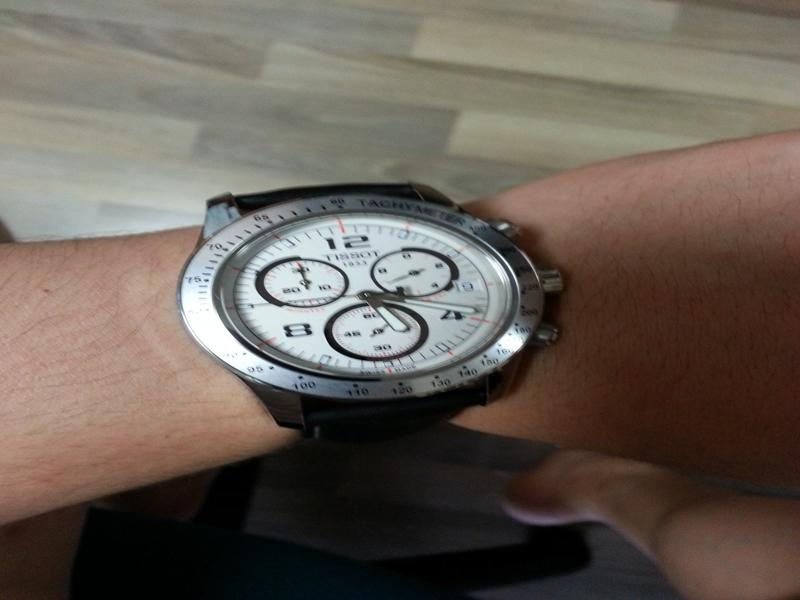watch: (176, 176, 571, 434)
